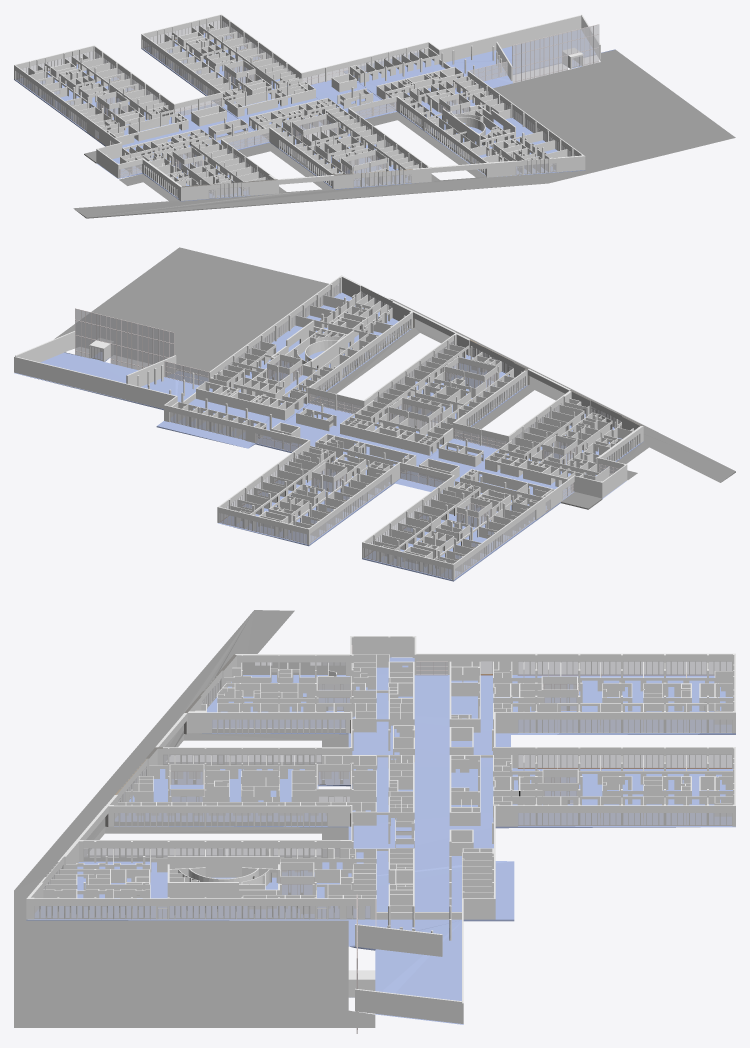
Rendered from Ebene 00NEU.fbx.
3 views of the same model, one above another, from view 1: azimuth 30°, elevation 25°; view 2: azimuth 150°, elevation 25°; view 3: azimuth 270°, elevation 25° (orthographic). The views are drawn at different scales.
Parts seen in each view (by area): view 1: Farbe, weiß, Farbe, grau, Glas Normalglas, Farbe, hellblau, Fensterrahmen, Metall Aluminium, matt, Metall, Fassade Edelstahl; view 2: Farbe, weiß, Farbe, grau, Glas Normalglas, Farbe, hellblau, Fensterrahmen, Metall Aluminium, matt, Metall, Fassade Edelstahl; view 3: Farbe, weiß, Farbe, grau, Farbe, hellblau, Glas Normalglas, Fensterrahmen, Metall Aluminium, matt.
Boxes of the visible parts, box(x1,y1,x2,y2) form: Farbe, weiß: box(14, 14, 600, 200); Farbe, grau: box(73, 50, 735, 218); Glas Normalglas: box(16, 20, 599, 197); Farbe, hellblau: box(14, 30, 615, 201); Fensterrahmen: box(16, 20, 581, 198); Metall Aluminium, matt: box(97, 24, 599, 177); Metall, Fassade Edelstahl: box(47, 31, 529, 188); Farbe, weiß: box(14, 275, 643, 580); Farbe, grau: box(54, 247, 735, 509); Glas Normalglas: box(75, 284, 634, 578); Farbe, hellblau: box(14, 292, 643, 581); Fensterrahmen: box(91, 283, 639, 579); Metall Aluminium, matt: box(75, 308, 618, 527); Metall, Fassade Edelstahl: box(183, 307, 642, 557); Farbe, weiß: box(26, 636, 735, 1023); Farbe, grau: box(14, 610, 447, 1027); Farbe, hellblau: box(26, 657, 735, 1024); Glas Normalglas: box(34, 661, 731, 918); Fensterrahmen: box(34, 661, 732, 919); Metall Aluminium, matt: box(169, 645, 578, 1033).
Bounding box in the file's own units: 20144 × 14732 × 1700.
14 materials, 5 textured.
